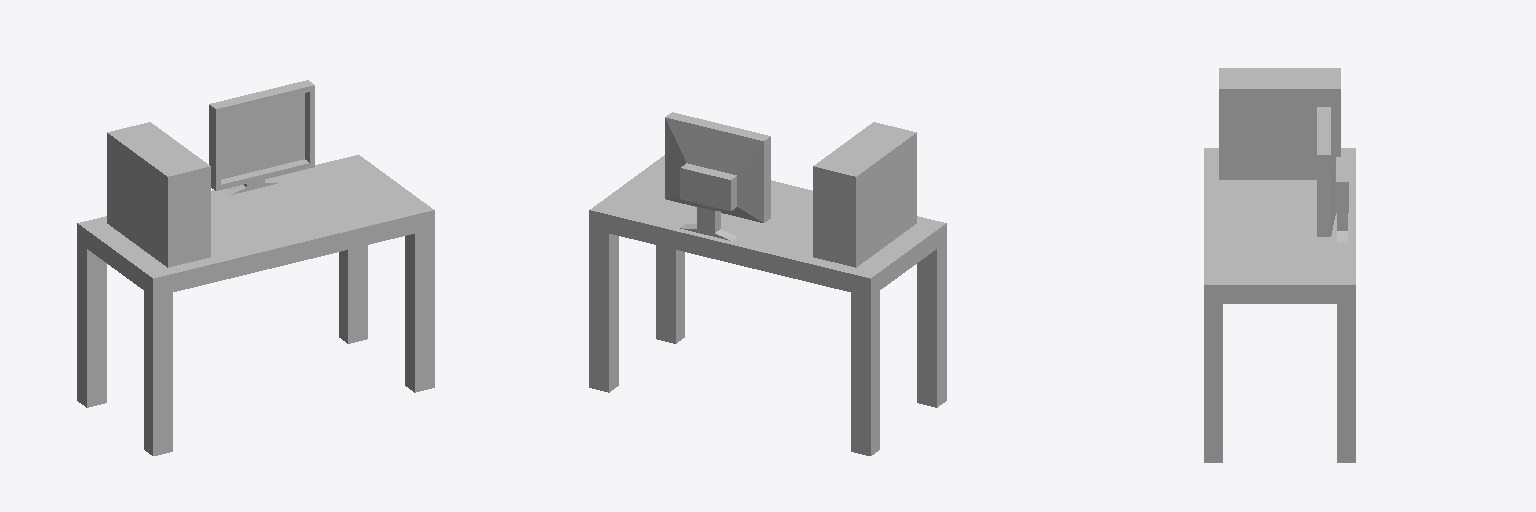
Rendered from desk.obj.
The picture shows the model from 3 angles: view 1: azimuth 30°, elevation 25°; view 2: azimuth 150°, elevation 25°; view 3: azimuth 270°, elevation 25°; orthographic projection.
Parts seen in each view (by area): view 1: Cube_Cube.002; view 2: Cube_Cube.002; view 3: Cube_Cube.002.
Part boxes in pixels (x1,y1,x2,y2): Cube_Cube.002: (77, 80, 434, 455); Cube_Cube.002: (589, 112, 946, 455); Cube_Cube.002: (1204, 68, 1355, 462).
Size of the model in its own units: 1.5 by 1.41 by 0.7.